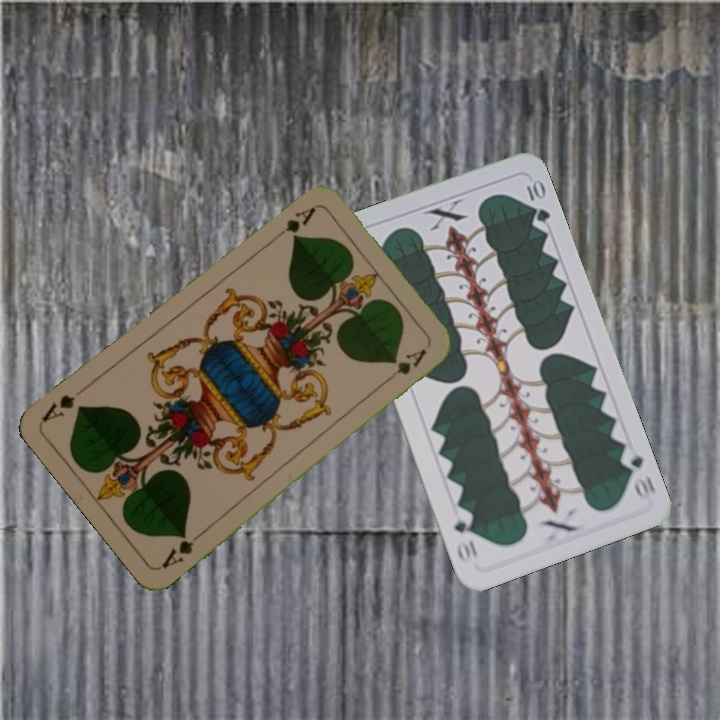G10: (616, 447, 658, 502)
GA: (157, 528, 206, 571), (281, 203, 319, 236)
